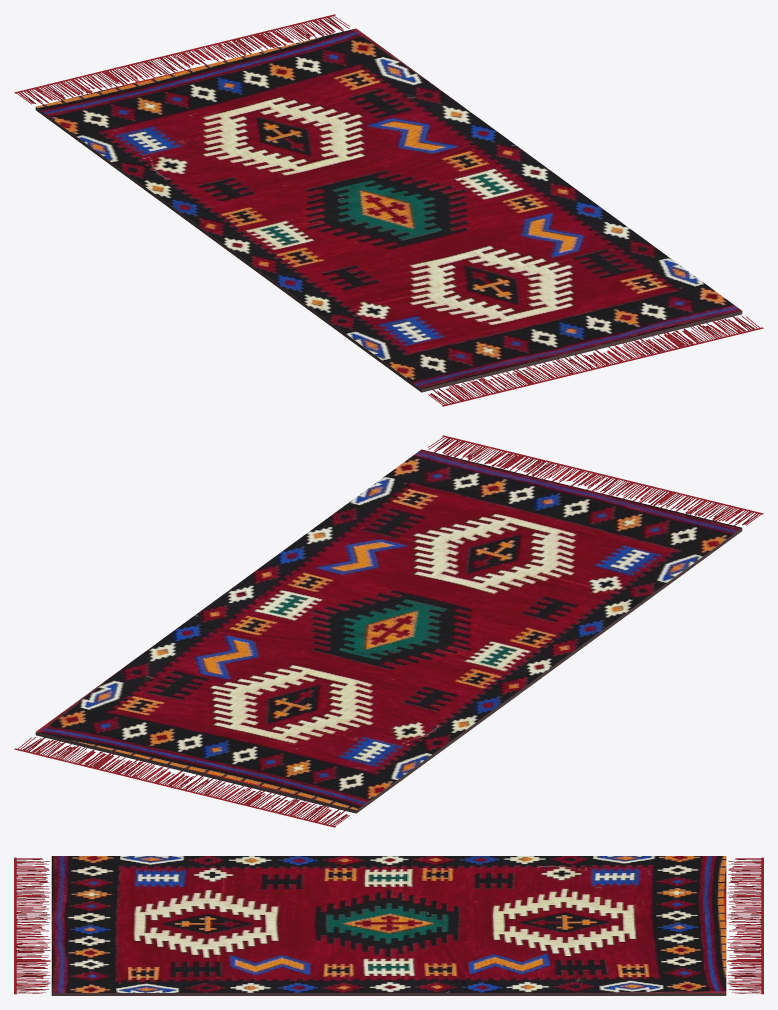
3 views of the same model, one above another, from view 1: azimuth 30°, elevation 25°; view 2: azimuth 150°, elevation 25°; view 3: azimuth 270°, elevation 25° (orthographic). The views are drawn at different scales.
Parts seen in each view (by area): view 1: rug, fringeB, fringeA, side; view 2: rug, fringeA, fringeB, side; view 3: rug, fringeA, fringeB, side.
Part boxes in pixels (x1,y1,x2,y2): rug: (36,28,741,388); fringeB: (428,316,763,406); fringeA: (14,14,349,104); side: (35,107,742,392); rug: (36,449,741,809); fringeA: (14,737,349,827); fringeB: (428,435,763,525); side: (35,528,742,813); rug: (51,856,726,992); fringeA: (727,857,763,994); fringeB: (14,857,50,994); side: (51,993,726,995).
Size of what is drawn, in the model's own units: 0.6 by 0.00614 by 1.39.
2 materials, 2 textured.
